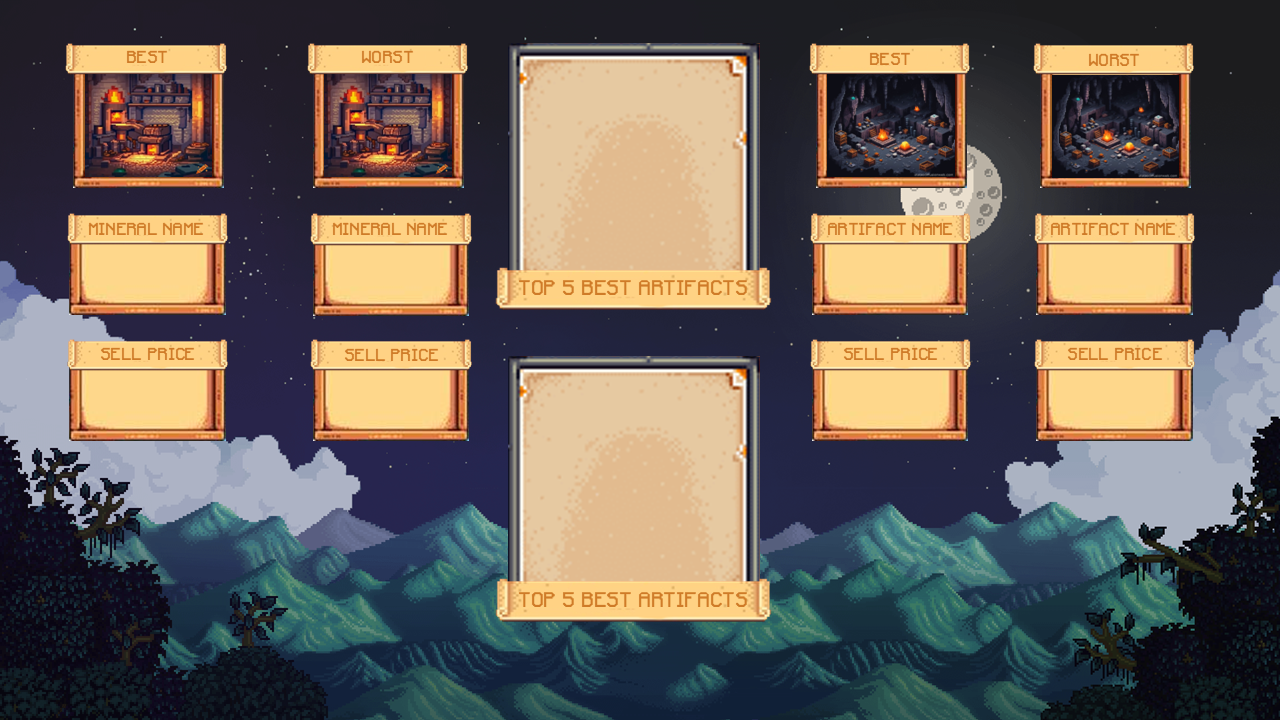

Layout of this report page (visuals, bound fields, positions):
{"tool":"powerbi","page":{"name":"minerals_artifacts","canvas":[1280,720],"ordinal":4},"visuals":[{"type":"barChart","fields":{"Category":["minerals.mineral_name"],"Y":["Max(minerals.sell_price)"]},"box":[92,360,428,308],"z":0},{"type":"barChart","fields":{"Category":["artifacts.artifact_name"],"Y":["Max(artifacts.sell_price)"]},"box":[698,360,428,308],"z":1},{"type":"card","fields":{"Values":["minerals.1.1 best minera1"]},"box":[92,26,257,189],"z":2},{"type":"card","fields":{"Values":["minerals.1.2 best minera1 val"]},"box":[92,199,257,150],"z":3},{"type":"card","fields":{"Values":["minerals.2.1 best artifact"]},"box":[698,26,224,189],"z":4},{"type":"card","fields":{"Values":["minerals.3.2 best artifact val"]},"box":[724,206,171,136],"z":5},{"type":"card","fields":{"Values":["minerals.2.1 worst minera1"]},"box":[349,26,271,189],"z":6},{"type":"card","fields":{"Values":["minerals.2.2 worst minera1 val"]},"box":[383,210,204,113],"z":7},{"type":"card","fields":{"Values":["minerals.4.1 worst artifact"]},"box":[930,54,205,161],"z":8},{"type":"card","fields":{"Values":["minerals.4.2 worst artifact val"]},"box":[958,221,150,106],"z":9}]}

Visuals, with their boxes in screenshot pixels (x1, y1, x2, y2), scaled from the page's 1280x720 canvas onto the 1280x720 screenshot:
barChart - minerals.mineral_name x Max(minerals.sell_price): <box>92,360,520,668</box>
barChart - artifacts.artifact_name x Max(artifacts.sell_price): <box>698,360,1126,668</box>
card - minerals.1.1 best minera1: <box>92,26,349,215</box>
card - minerals.1.2 best minera1 val: <box>92,199,349,349</box>
card - minerals.2.1 best artifact: <box>698,26,922,215</box>
card - minerals.3.2 best artifact val: <box>724,206,895,342</box>
card - minerals.2.1 worst minera1: <box>349,26,620,215</box>
card - minerals.2.2 worst minera1 val: <box>383,210,587,323</box>
card - minerals.4.1 worst artifact: <box>930,54,1135,215</box>
card - minerals.4.2 worst artifact val: <box>958,221,1108,327</box>
